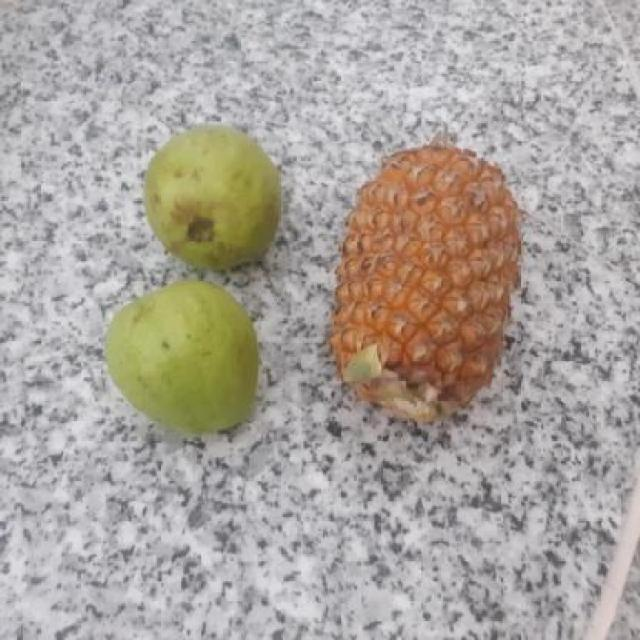guava: (95, 282, 258, 436), (137, 128, 281, 270)
pineapple: (328, 143, 520, 425)
